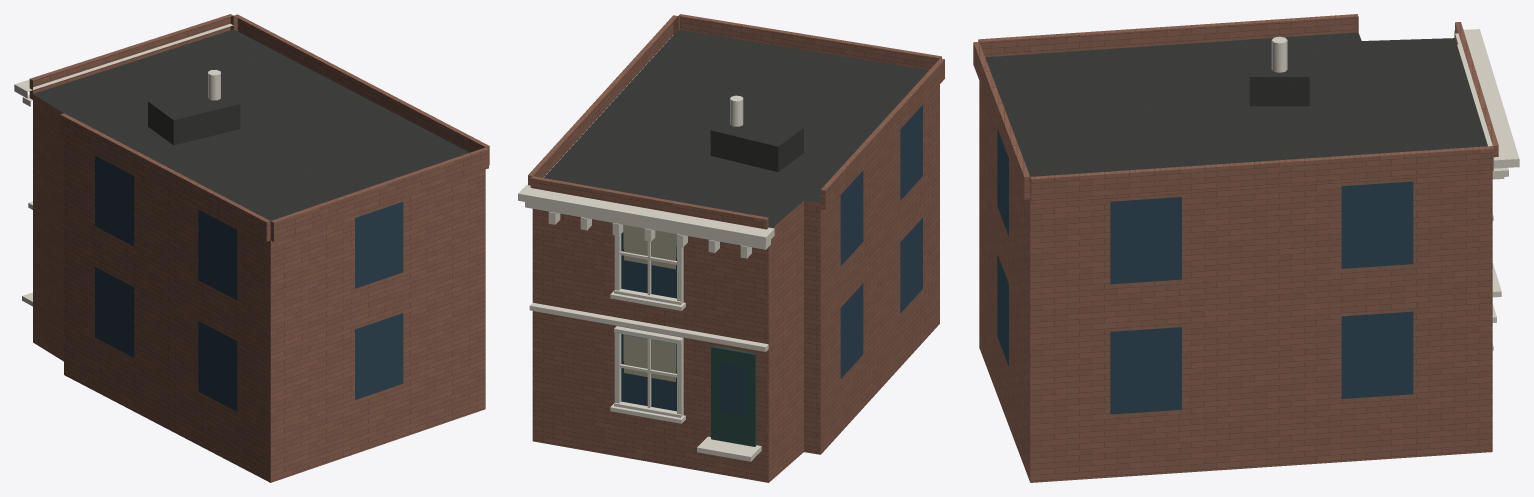
3 views of the same model, side by side, from view 1: azimuth 30°, elevation 25°; view 2: azimuth 150°, elevation 25°; view 3: azimuth 270°, elevation 25° (orthographic). The views are drawn at different scales.
Visible parts, largest first — view 1: Footprint 0 / surface 2, Footprint 0 / surface 1, Inset glazing, Facade bay volumes, Inferred rooftop service enclosure / surface 5, Inferred rooftop service enclosure / surface 3, Cornices and window frames, Inferred rooftop service enclosure / surface 2; view 2: Footprint 0 / surface 2, Footprint 0 / surface 1, Cornices and window frames, Facade bay volumes, Inset glazing, Interior blind variation, Storefronts and doors, Inferred rooftop service enclosure / surface 6, Inferred rooftop service enclosure / surface 3, Inferred rooftop service enclosure / surface 2; view 3: Footprint 0 / surface 2, Footprint 0 / surface 1, Inset glazing, Facade bay volumes, Cornices and window frames, Inferred rooftop service enclosure / surface 3, Inferred rooftop service enclosure / surface 1.
Part boxes in pixels (x1,y1,x2,y2): Footprint 0 / surface 2: (33,94,485,482); Footprint 0 / surface 1: (33,29,469,220); Inset glazing: (95,155,403,411); Facade bay volumes: (29,14,489,241); Inferred rooftop service enclosure / surface 5: (173,104,240,145); Inferred rooftop service enclosure / surface 3: (148,87,239,119); Cornices and window frames: (14,23,233,306); Inferred rooftop service enclosure / surface 2: (148,102,173,144); Footprint 0 / surface 2: (532,84,939,482); Footprint 0 / surface 1: (544,30,928,227); Cornices and window frames: (518,185,774,461); Facade bay volumes: (528,14,944,229); Inset glazing: (621,105,922,415); Interior blind variation: (624,225,675,381); Storefronts and doors: (711,345,756,446); Inferred rooftop service enclosure / surface 6: (710,130,778,171); Inferred rooftop service enclosure / surface 3: (711,113,803,146); Inferred rooftop service enclosure / surface 2: (778,128,803,171); Footprint 0 / surface 2: (979,81,1492,482); Footprint 0 / surface 1: (985,32,1487,176); Inset glazing: (997,129,1413,414); Facade bay volumes: (973,14,1498,201); Cornices and window frames: (1454,29,1519,350); Inferred rooftop service enclosure / surface 3: (1249,39,1309,76); Inferred rooftop service enclosure / surface 1: (1249,77,1309,106).
Size of the model in its own units: 7.83 by 7.71 by 10.93.
